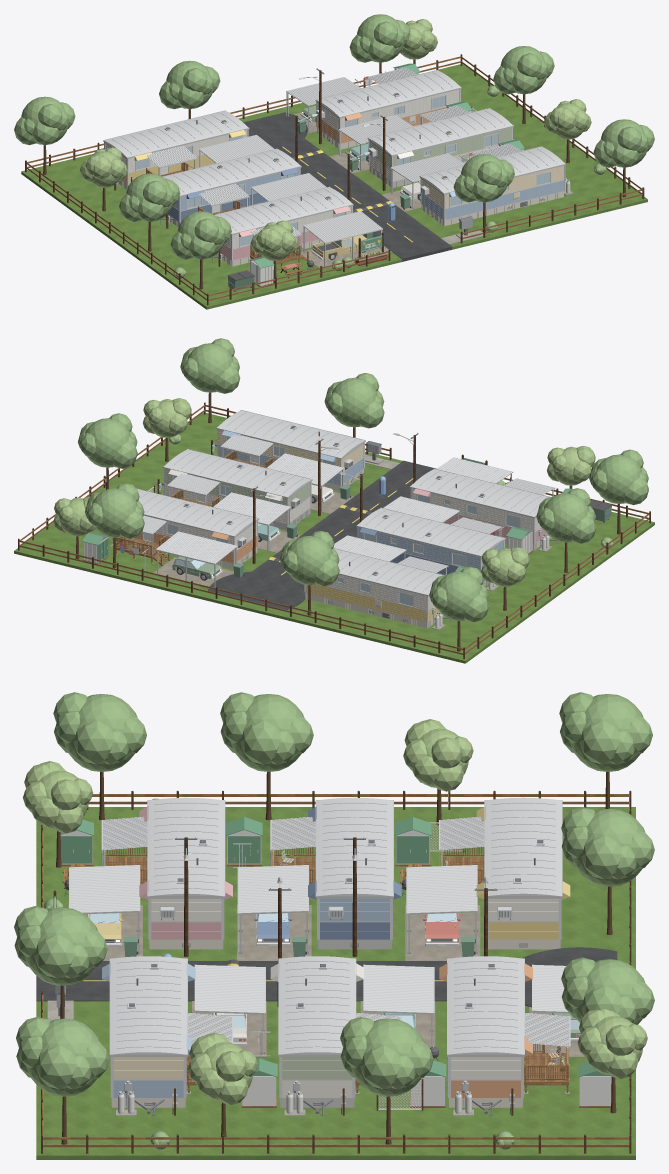
File: building_assembled.glb
The picture shows the model from 3 angles, top to bottom: view 1: azimuth 30°, elevation 25°; view 2: azimuth 150°, elevation 25°; view 3: azimuth 270°, elevation 25°; orthographic projection. The views are drawn at different scales.
Visible parts, largest first — view 1: geometry_895, geometry_896, geometry_901, geometry_20, geometry_462, geometry_616, geometry_172, geometry_319, geometry_953, geometry_949, geometry_951, geometry_945 (+44 smaller); view 2: geometry_895, geometry_896, geometry_901, geometry_172, geometry_616, geometry_761, geometry_319, geometry_462, geometry_947, geometry_949, geometry_951, geometry_959 (+39 smaller); view 3: geometry_895, geometry_462, geometry_761, geometry_20, geometry_319, geometry_172, geometry_897, geometry_616, geometry_901, geometry_953, geometry_947, geometry_955 (+53 smaller).
Part boxes in pixels (bbox=[...]): geometry_895: bbox=[21, 64, 647, 309]; geometry_896: bbox=[243, 112, 452, 261]; geometry_901: bbox=[26, 56, 642, 300]; geometry_20: bbox=[104, 110, 248, 157]; geometry_462: bbox=[316, 70, 460, 116]; geometry_616: bbox=[368, 108, 512, 155]; geometry_172: bbox=[162, 149, 300, 195]; geometry_319: bbox=[214, 187, 352, 233]; geometry_953: bbox=[159, 60, 220, 109]; geometry_949: bbox=[493, 46, 554, 94]; geometry_951: bbox=[593, 119, 654, 167]; geometry_945: bbox=[14, 96, 75, 145]; geometry_895: bbox=[14, 412, 654, 663]; geometry_896: bbox=[208, 460, 436, 609]; geometry_901: bbox=[19, 404, 649, 654]; geometry_172: bbox=[357, 508, 504, 555]; geometry_616: bbox=[164, 449, 311, 496]; geometry_761: bbox=[217, 410, 364, 457]; geometry_319: bbox=[410, 469, 549, 516]; geometry_462: bbox=[136, 488, 258, 536]; geometry_947: bbox=[536, 488, 596, 543]; geometry_949: bbox=[78, 413, 137, 468]; geometry_951: bbox=[180, 338, 240, 393]; geometry_959: bbox=[85, 483, 144, 538]; geometry_895: bbox=[36, 807, 635, 1159]; geometry_462: bbox=[447, 956, 524, 1054]; geometry_761: bbox=[110, 956, 187, 1054]; geometry_20: bbox=[485, 797, 561, 896]; geometry_319: bbox=[147, 797, 224, 896]; geometry_172: bbox=[316, 797, 393, 896]; geometry_897: bbox=[68, 905, 584, 1057]; geometry_616: bbox=[278, 956, 355, 1054]; geometry_901: bbox=[42, 794, 629, 1147]; geometry_953: bbox=[561, 807, 654, 886]; geometry_947: bbox=[220, 692, 313, 771]; geometry_955: bbox=[14, 906, 107, 985].
Size of the model in its own units: 46.52 by 7.53 by 34.21.
Materials: 75 (16 with a texture image).
